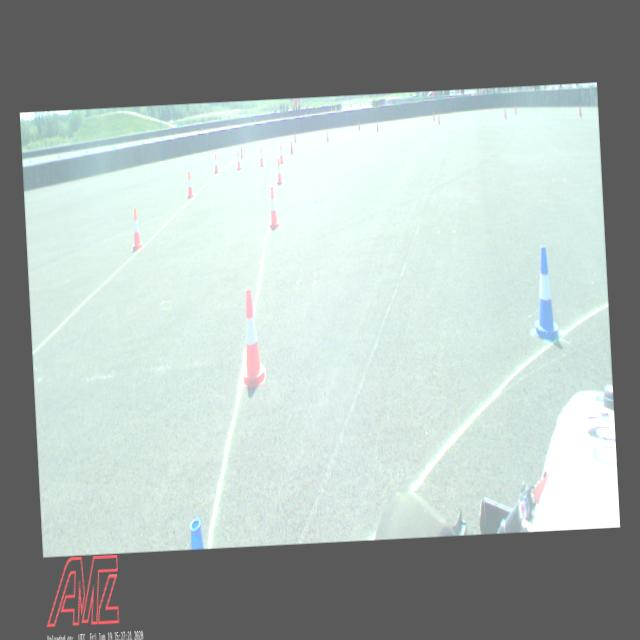blue_cone: (527, 244, 563, 343), (190, 516, 204, 550)
orange_cone: (238, 287, 266, 388), (130, 208, 144, 252), (266, 186, 280, 229), (186, 172, 194, 198), (276, 158, 282, 185), (213, 153, 219, 174), (236, 150, 242, 170), (258, 146, 264, 166), (278, 144, 284, 164)
